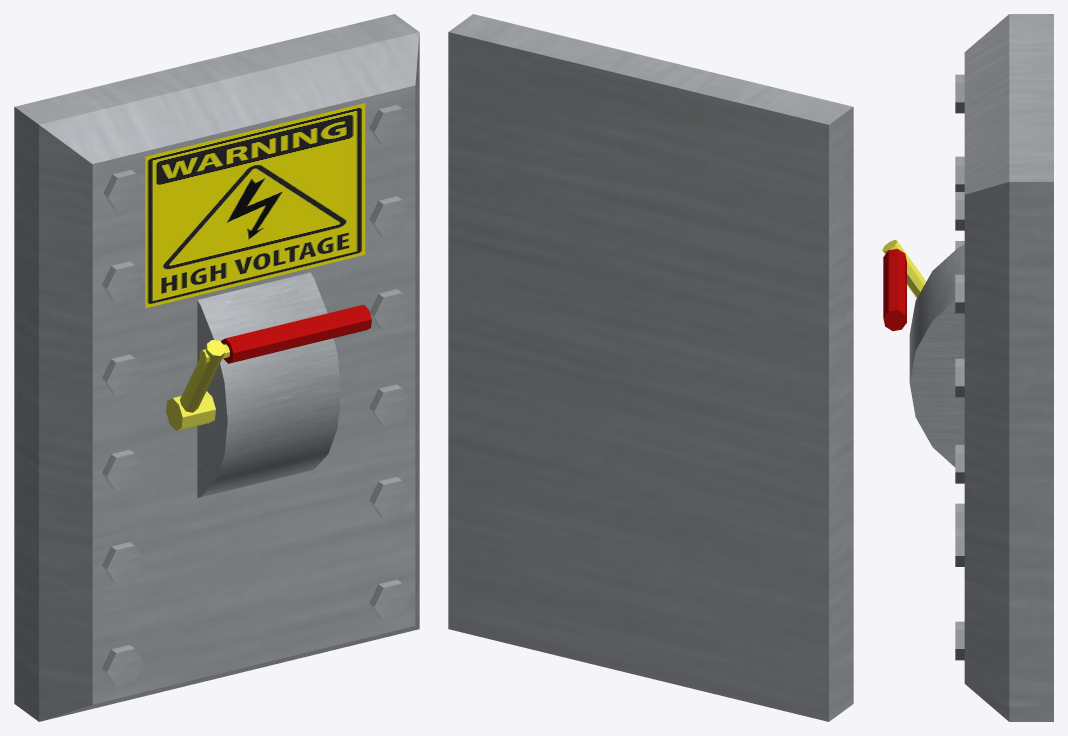
File: Lever_Box.fbx
The picture shows the model from 3 angles, left to right: view 1: azimuth 30°, elevation 25°; view 2: azimuth 150°, elevation 25°; view 3: azimuth 270°, elevation 25°; orthographic projection. The views are drawn at different scales.
Parts seen in each view (by area): view 1: Lever_Box, Voltage, Lever_Handle; view 2: Lever_Box; view 3: Lever_Box, Lever_Handle.
Boxes of the visible parts, <box> form: Lever_Box: <box>14,14,419,721</box>; Voltage: <box>145,103,365,308</box>; Lever_Handle: <box>166,304,371,430</box>; Lever_Box: <box>448,14,853,721</box>; Lever_Box: <box>909,14,1053,721</box>; Lever_Handle: <box>882,240,926,330</box>.
Size of the model in its own units: 0.2 by 0.3 by 0.0864.
5 materials, 5 textured.
